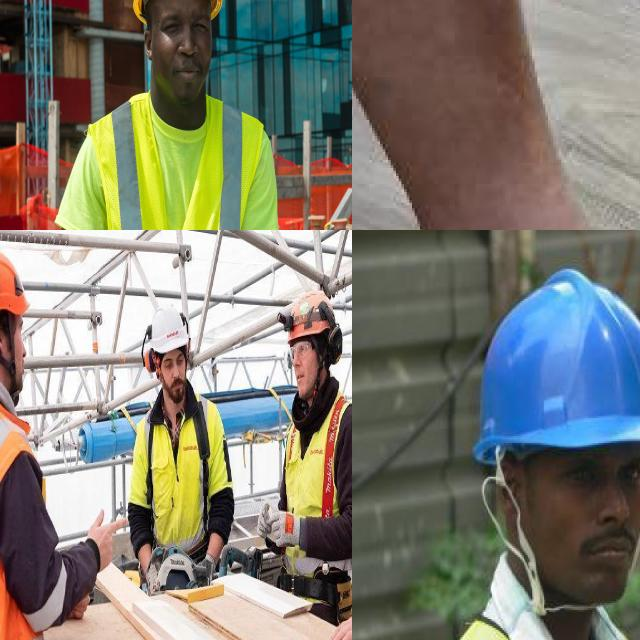No_Ear-Protection: (138, 24, 156, 63)
No_Glasses: (543, 451, 640, 510), (155, 3, 214, 45)
face_nomask: (526, 457, 640, 603), (147, 0, 216, 102), (1, 312, 34, 396), (162, 345, 188, 411), (293, 342, 319, 406)
hand_glove: (258, 498, 301, 557)
hand_noglove: (86, 508, 130, 580), (334, 589, 352, 640)
head_helmet: (469, 266, 640, 448), (286, 288, 343, 355), (0, 248, 32, 348), (143, 302, 191, 356)
person: (410, 265, 640, 640), (50, 0, 280, 230), (128, 301, 238, 588), (273, 292, 352, 609), (0, 246, 62, 640)
vest: (89, 68, 271, 230), (136, 392, 214, 580), (0, 407, 49, 640)
